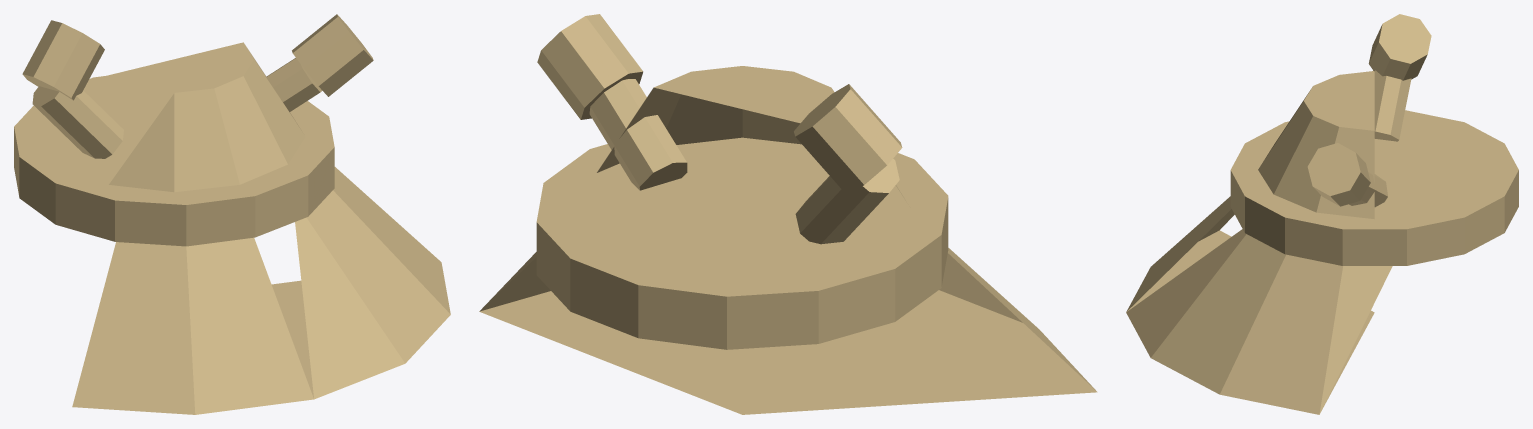
File: HomebaseMailSack_LOD00.gltf
3 renders of one model, left to right at view 1: azimuth 30°, elevation 25°; view 2: azimuth 150°, elevation 25°; view 3: azimuth 270°, elevation 25°, orthographic. The views are drawn at different scales.
Visible parts, largest first — view 1: HomebaseMailSack_node; view 2: HomebaseMailSack_node; view 3: HomebaseMailSack_node.
Boxes of the visible parts, x1,y1,x2,y2 form: HomebaseMailSack_node: [14, 14, 450, 414]; HomebaseMailSack_node: [479, 14, 1097, 414]; HomebaseMailSack_node: [1126, 14, 1518, 414].
Bounding box in the file's own units: 0.4304 × 0.2782 × 0.387.
